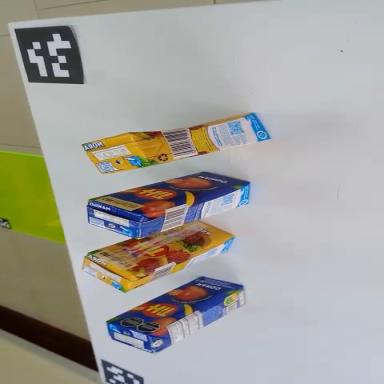HIT-MANGO: (104, 256, 252, 368), (83, 157, 257, 251)
HIT-MORA: (78, 200, 238, 304), (82, 104, 270, 178)
cara_F: (88, 198, 234, 290), (88, 152, 251, 231), (106, 257, 243, 350)
